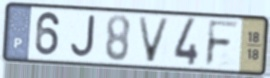4: (172, 16, 201, 69)
6: (33, 11, 62, 58)
8: (104, 13, 132, 63)
F: (203, 18, 242, 69)
J: (69, 14, 97, 60)
V: (136, 15, 173, 65)
